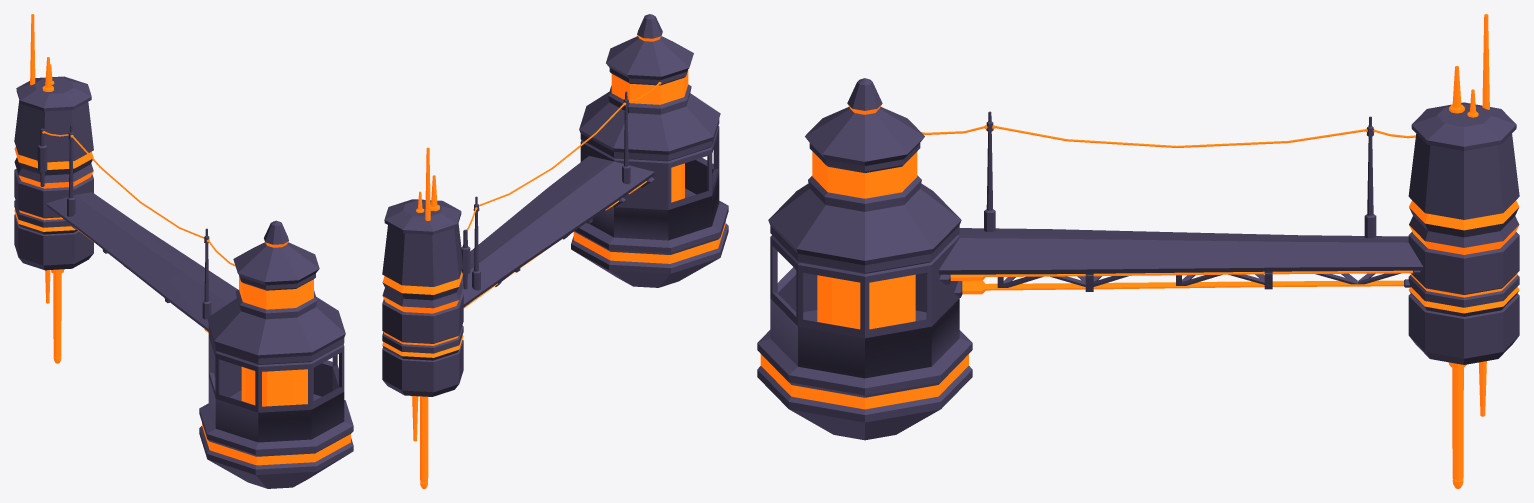
The model's file is Fly_House_01.fbx.
3 views of the same model, side by side, from view 1: azimuth 30°, elevation 25°; view 2: azimuth 150°, elevation 25°; view 3: azimuth 270°, elevation 25° (orthographic). The views are drawn at different scales.
Parts seen in each view (by area): view 1: Fly_House_01; view 2: Fly_House_01; view 3: Fly_House_01.
Part boxes in pixels (left/top/right/bottom): Fly_House_01: left=14, top=14, right=353, bottom=488; Fly_House_01: left=382, top=14, right=728, bottom=488; Fly_House_01: left=757, top=14, right=1519, bottom=488.
Size of the model in its own units: 835 by 1988 by 2957.
